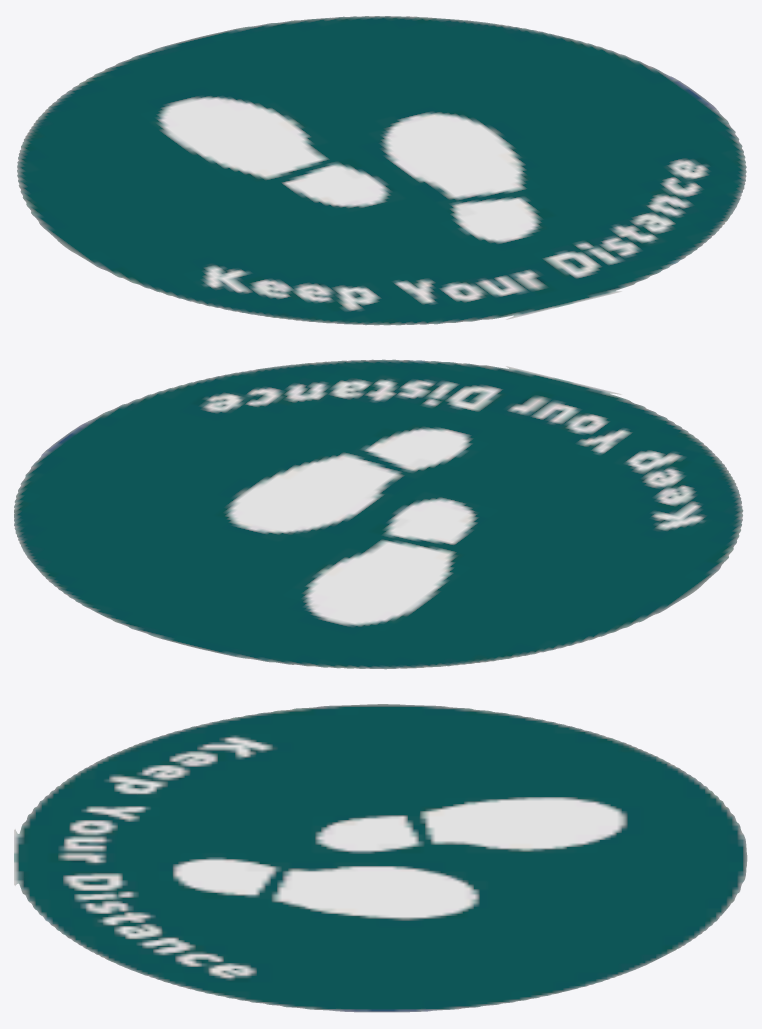
The model's file is SM_Sign_Floor_Covid_05.glb.
The picture shows the model from 3 angles, top to bottom: view 1: azimuth 30°, elevation 25°; view 2: azimuth 150°, elevation 25°; view 3: azimuth 270°, elevation 25°; orthographic projection.
Parts seen in each view (by area): view 1: SM_Sign_Floor_Covid_05; view 2: SM_Sign_Floor_Covid_05; view 3: SM_Sign_Floor_Covid_05.
Boxes of the visible parts, x1,y1,x2,y2 form: SM_Sign_Floor_Covid_05: [17, 16, 746, 325]; SM_Sign_Floor_Covid_05: [14, 359, 743, 669]; SM_Sign_Floor_Covid_05: [14, 704, 747, 1012].
Size of the model in its own units: 0.4461 by 0 by 0.4393.
Materials: 1 (1 with a texture image).
